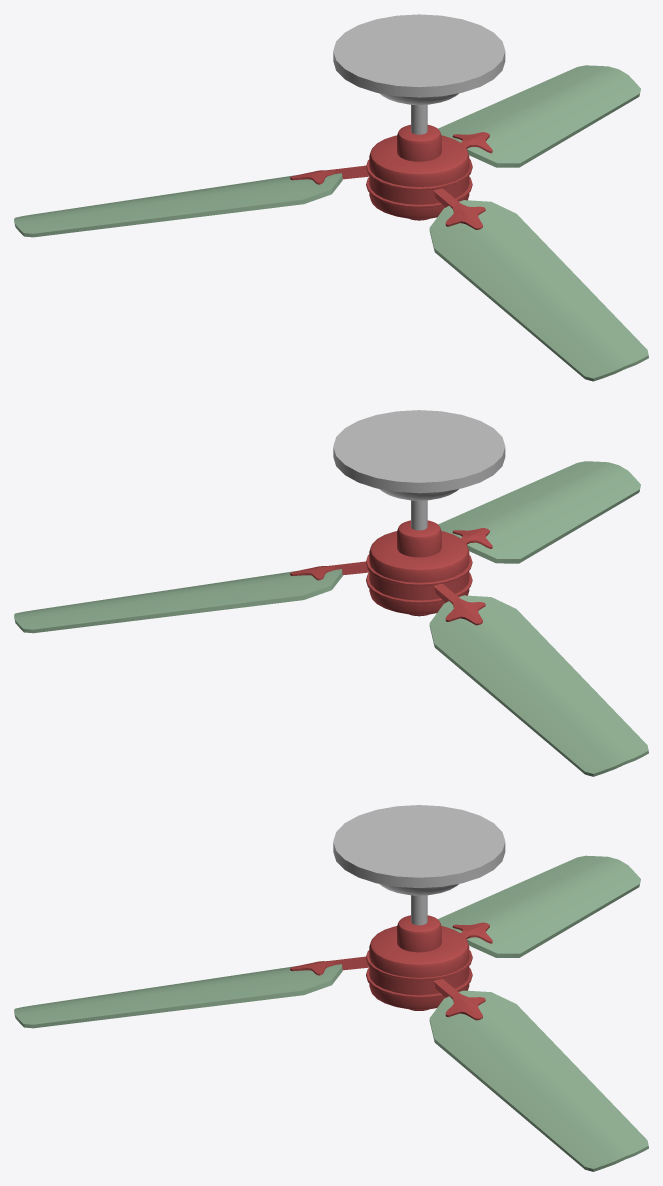
File: Ceiling Fan.fbx
The picture shows the model from 3 angles, top to bottom: view 1: azimuth 30°, elevation 25°; view 2: azimuth 150°, elevation 25°; view 3: azimuth 270°, elevation 25°; orthographic projection.
Visible parts, largest first — view 1: Plane, Circle, Plane.001; view 2: Plane, Circle, Plane.001; view 3: Plane, Circle, Plane.001.
Boxes of the visible parts, x1=… form: Plane: x1=14, y1=65, x2=648, y2=381; Circle: x1=333, y1=14, x2=505, y2=220; Plane.001: x1=290, y1=132, x2=492, y2=229; Plane: x1=14, y1=461, x2=648, y2=776; Circle: x1=333, y1=410, x2=505, y2=616; Plane.001: x1=290, y1=528, x2=492, y2=625; Plane: x1=14, y1=855, x2=648, y2=1171; Circle: x1=333, y1=805, x2=505, y2=1010; Plane.001: x1=290, y1=922, x2=492, y2=1020.
Bounding box in the file's own units: 2027 × 1794 × 563.
